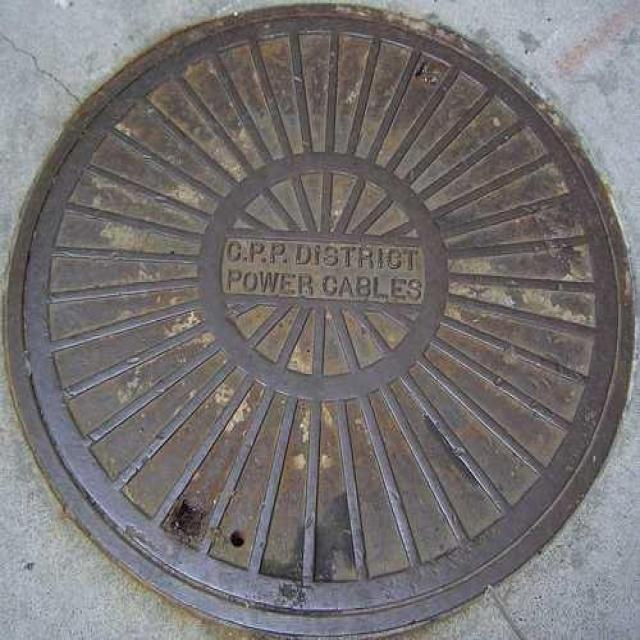manhole: (13, 6, 634, 628)
